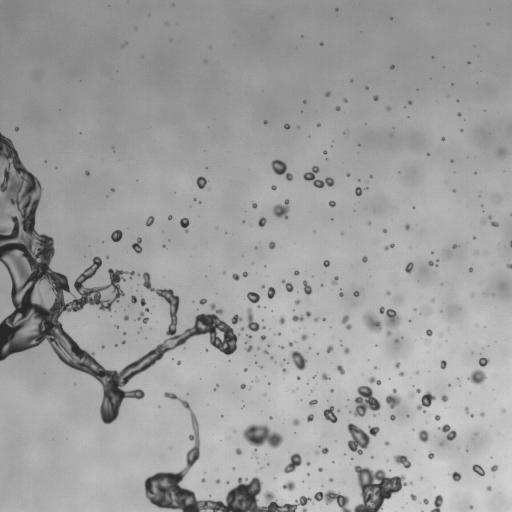droplet: (363, 307, 400, 335), (242, 424, 283, 449), (347, 423, 379, 454), (352, 385, 380, 416), (303, 166, 334, 187), (417, 391, 435, 410), (284, 453, 301, 473), (273, 199, 289, 218), (290, 351, 306, 370), (385, 388, 400, 408), (439, 424, 456, 440), (468, 369, 486, 384), (323, 406, 337, 422), (394, 455, 410, 468), (132, 237, 141, 253), (472, 464, 484, 476), (247, 292, 260, 303), (341, 315, 351, 329), (180, 217, 189, 232), (196, 176, 207, 188), (111, 230, 122, 242), (282, 480, 295, 490), (303, 281, 312, 295), (418, 430, 428, 442), (283, 280, 293, 291), (138, 312, 148, 323), (231, 314, 242, 324), (368, 376, 380, 385), (145, 216, 154, 226), (405, 262, 413, 273), (267, 287, 275, 298), (497, 148, 506, 157), (452, 472, 461, 481), (479, 358, 489, 366), (258, 217, 266, 226), (336, 365, 344, 374), (292, 315, 303, 321), (355, 187, 362, 196), (326, 345, 333, 353), (322, 372, 329, 380), (440, 360, 446, 369), (232, 273, 239, 280), (269, 241, 275, 249), (332, 276, 338, 284), (309, 399, 317, 405), (307, 414, 313, 422), (323, 260, 330, 266), (395, 297, 401, 304), (279, 317, 285, 324), (245, 345, 252, 351), (441, 395, 447, 402), (292, 419, 299, 425), (428, 452, 434, 459), (491, 465, 498, 471), (131, 295, 136, 303), (329, 201, 335, 207), (426, 329, 432, 335), (301, 334, 307, 340), (410, 494, 416, 500), (422, 498, 428, 504), (491, 221, 498, 226), (428, 261, 435, 266), (140, 298, 145, 305), (199, 299, 206, 304), (304, 311, 311, 316), (344, 347, 349, 354), (321, 448, 328, 453), (252, 202, 257, 208), (362, 256, 367, 262), (353, 291, 359, 296), (434, 415, 440, 420), (236, 448, 241, 454), (373, 95, 378, 100), (284, 124, 289, 129), (271, 185, 276, 190), (294, 270, 299, 275), (242, 272, 247, 277), (123, 315, 128, 320), (260, 335, 265, 340), (390, 415, 395, 420), (486, 485, 491, 490), (405, 224, 409, 230), (395, 362, 399, 368), (325, 92, 330, 96), (452, 244, 457, 248), (507, 264, 511, 269), (289, 342, 294, 346), (240, 384, 245, 388), (409, 393, 414, 397), (464, 407, 468, 412), (384, 441, 389, 445), (390, 65, 394, 69), (336, 106, 340, 110), (457, 112, 461, 116), (323, 150, 327, 154), (85, 171, 89, 175), (168, 215, 172, 219), (339, 292, 343, 296), (295, 300, 299, 304), (314, 317, 318, 321), (282, 368, 286, 372), (399, 372, 403, 376), (416, 388, 420, 392), (480, 412, 484, 416), (318, 467, 322, 471), (201, 478, 205, 482), (216, 479, 220, 483), (246, 335, 251, 338), (15, 127, 18, 131), (387, 291, 390, 295), (264, 350, 267, 354), (502, 408, 505, 412), (306, 462, 310, 465), (470, 505, 473, 509), (344, 99, 347, 102), (408, 101, 411, 104), (386, 107, 389, 110), (441, 137, 444, 140), (383, 229, 386, 232), (475, 251, 478, 254), (469, 268, 472, 271), (145, 308, 148, 311), (280, 345, 283, 348), (177, 361, 180, 364), (470, 414, 473, 417), (329, 478, 332, 481), (264, 121, 267, 123), (347, 173, 349, 176), (111, 188, 113, 191), (488, 216, 491, 218), (445, 254, 448, 256), (322, 318, 325, 320), (241, 327, 243, 330), (278, 332, 280, 335), (374, 367, 377, 369), (297, 377, 300, 379), (233, 430, 236, 432), (409, 482, 412, 484), (317, 124, 319, 126), (163, 245, 165, 247), (431, 252, 433, 254), (436, 260, 438, 262), (440, 334, 442, 336), (395, 339, 397, 341), (122, 341, 124, 343), (245, 341, 247, 343), (271, 356, 273, 358), (313, 375, 315, 377), (216, 385, 218, 387), (423, 410, 425, 412), (475, 433, 477, 435), (316, 451, 318, 453)
ligament: (0, 133, 236, 423), (144, 392, 407, 511), (271, 160, 292, 180), (247, 308, 265, 331), (430, 494, 443, 511), (384, 243, 394, 250), (510, 241, 511, 246)
